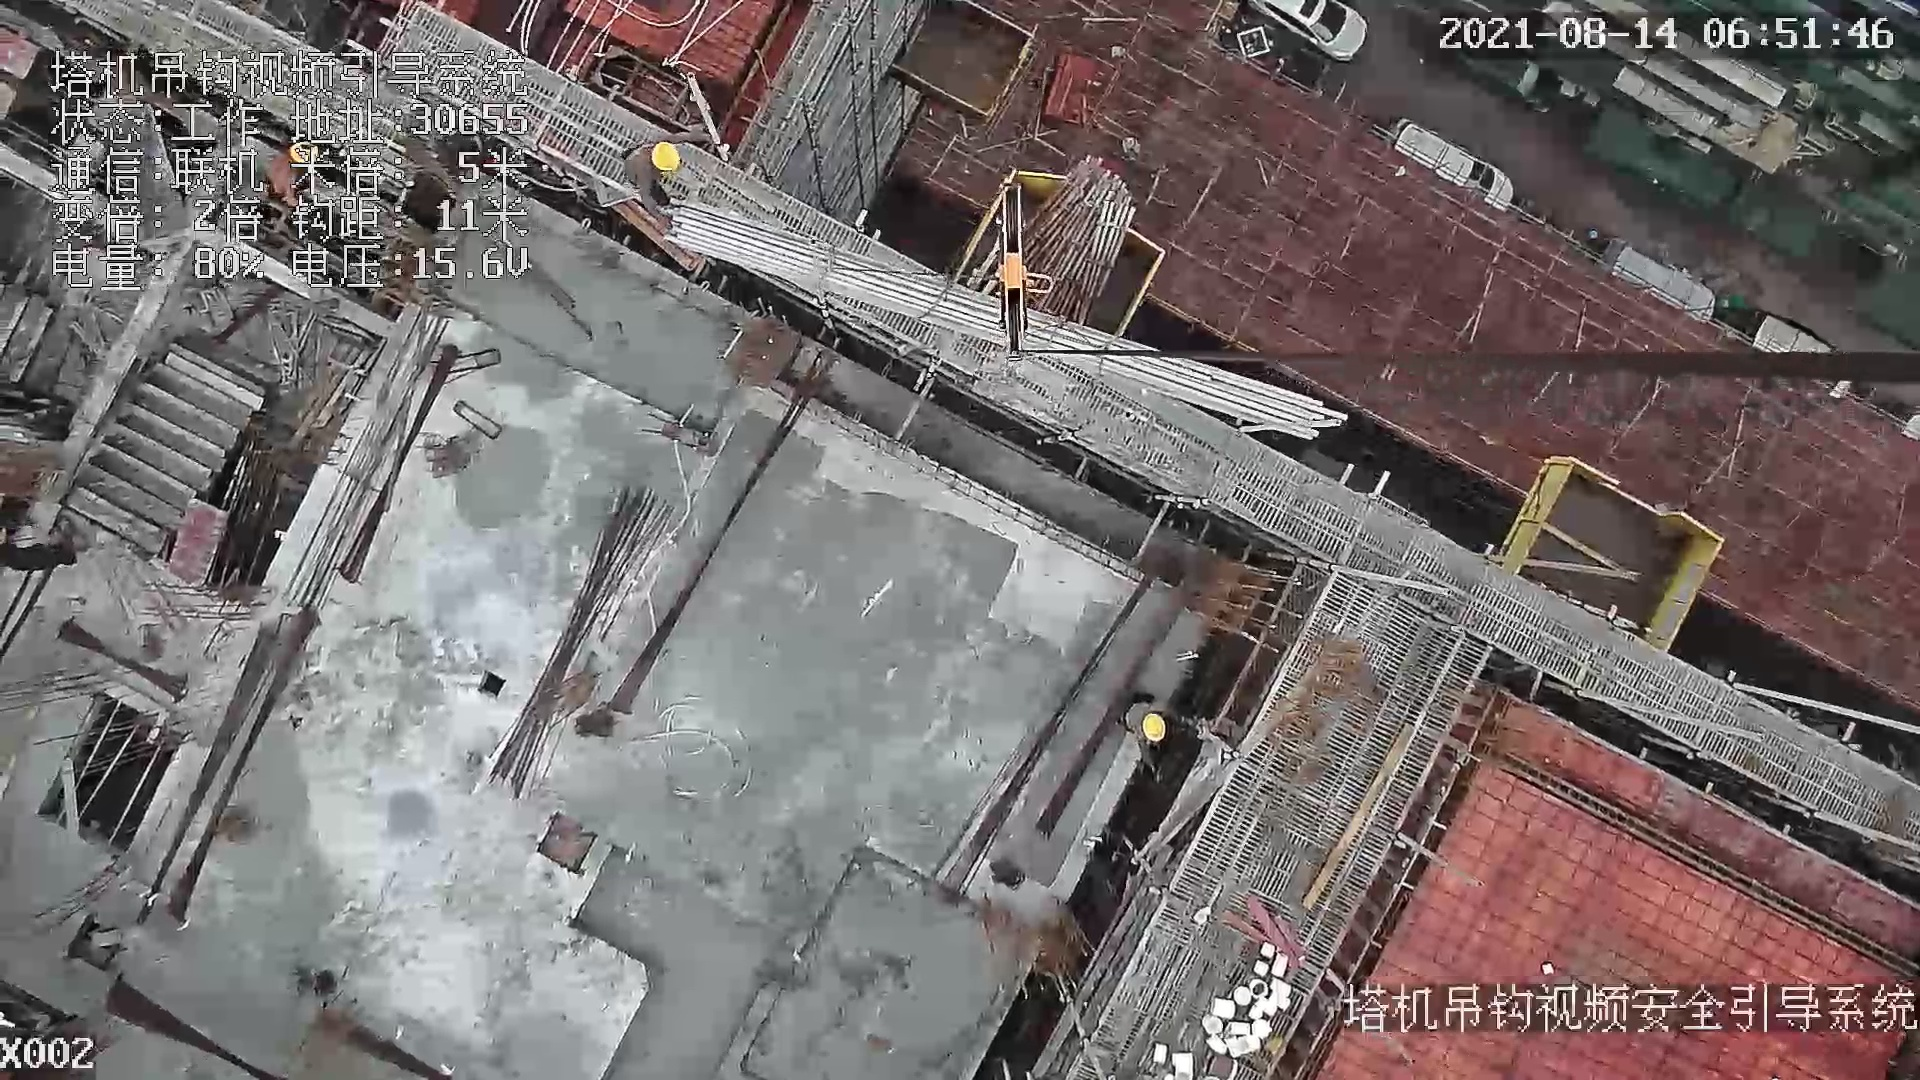helmet: (649, 141, 681, 173), (1140, 714, 1166, 742)
hook: (990, 178, 1055, 347)
person: (618, 127, 719, 221), (1123, 692, 1199, 780), (4, 538, 79, 574)
rebar: (665, 197, 1348, 441), (484, 489, 673, 804)
scaffold: (1025, 157, 1132, 324)
